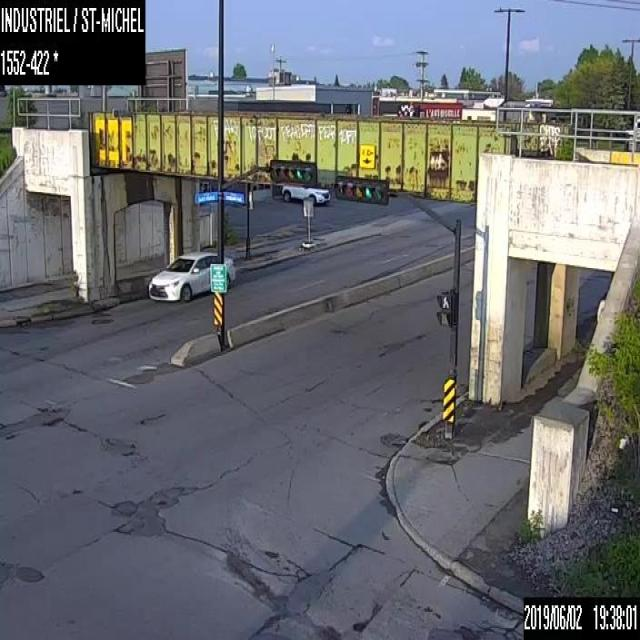vehicle: (147, 248, 235, 301), (280, 184, 331, 204)
